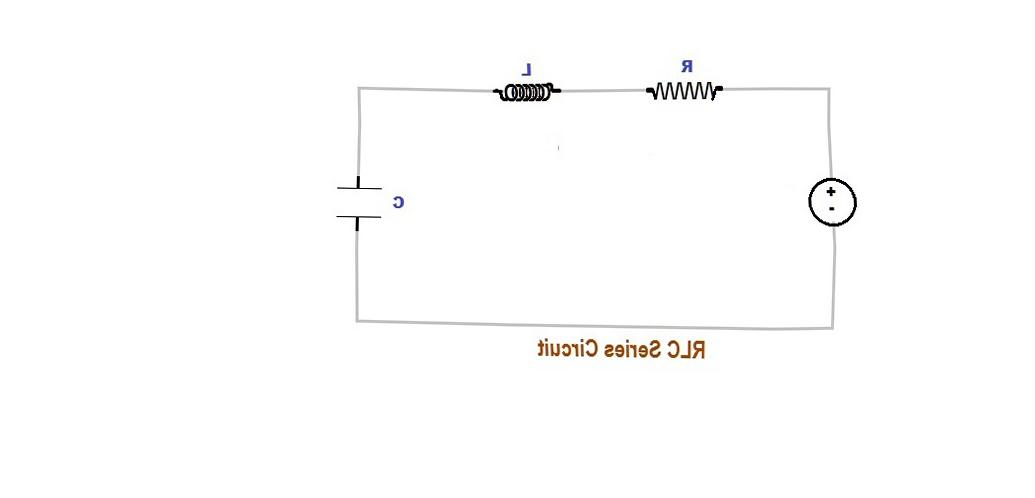Battery: (782, 160, 873, 241)
